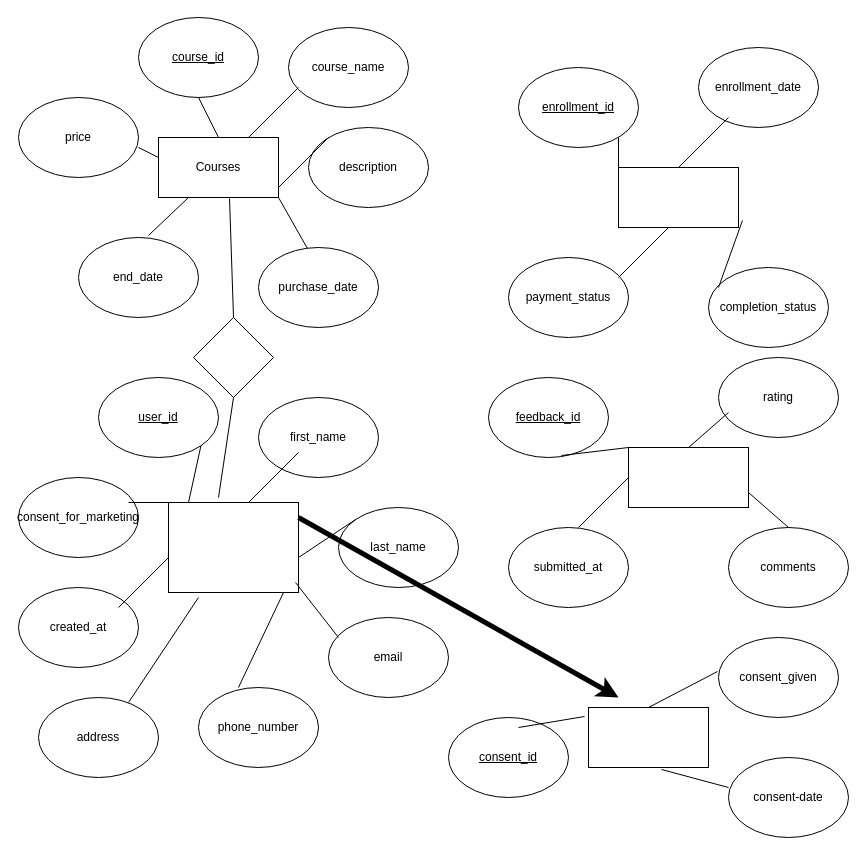
This 866x855 diagram has some shape labels left out. Each missing label, with the centre of its shape:
"Consent" belongs at point (648, 737).
"Enrollments" belongs at point (678, 197).
"Enrolls" belongs at point (233, 357).
"Feedback" belongs at point (688, 477).
"Users" belongs at point (233, 547).
